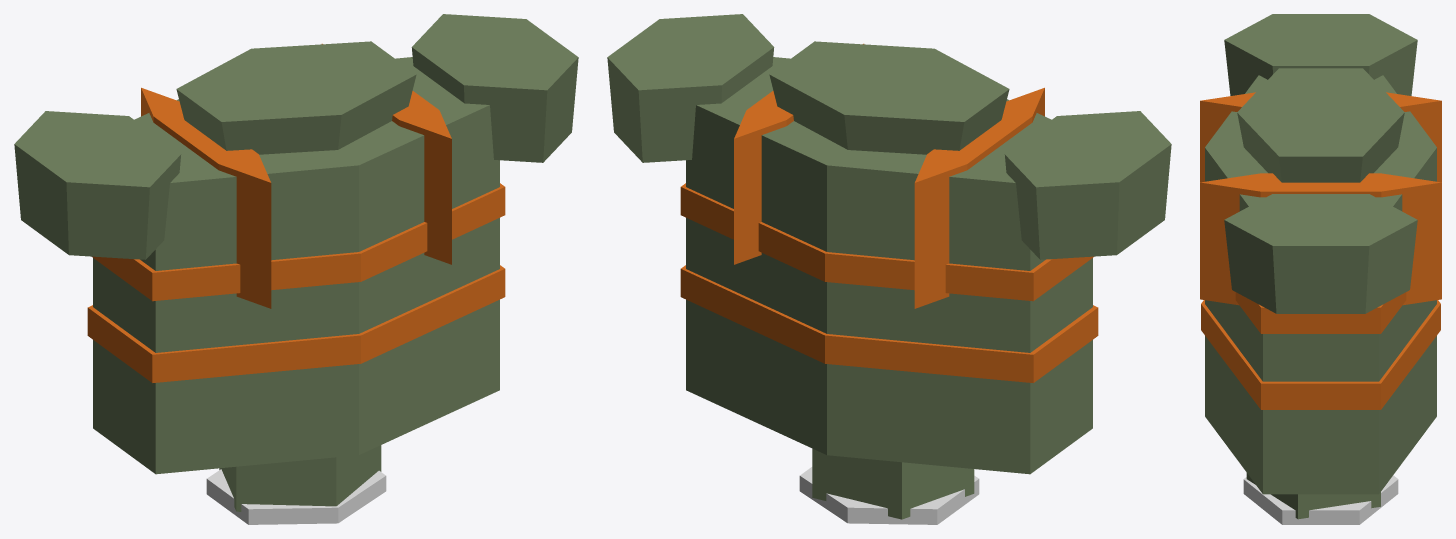
The model's file is torso.work_jacket.glb.
3 views of the same model, side by side, from view 1: azimuth 30°, elevation 25°; view 2: azimuth 150°, elevation 25°; view 3: azimuth 270°, elevation 25° (orthographic). The views are drawn at different scales.
Parts seen in each view (by area): view 1: spine@work_jacket.team.cloth, spine@work_jacket.team.accent, arm.L@work_jacket.team.cloth, arm.L@work_jacket.base; view 2: spine@work_jacket.team.cloth, spine@work_jacket.team.accent, arm.L@work_jacket.team.cloth, arm.L@work_jacket.base; view 3: spine@work_jacket.team.cloth, spine@work_jacket.team.accent, arm.L@work_jacket.base, arm.L@work_jacket.team.cloth.
Boxes of the visible parts, x1,y1,x2,y2 form: spine@work_jacket.team.cloth: [14, 14, 578, 474]; spine@work_jacket.team.accent: [87, 43, 505, 382]; arm.L@work_jacket.team.cloth: [219, 445, 381, 511]; arm.L@work_jacket.base: [206, 469, 386, 524]; spine@work_jacket.team.cloth: [607, 14, 1171, 474]; spine@work_jacket.team.accent: [680, 43, 1098, 382]; arm.L@work_jacket.team.cloth: [812, 448, 974, 519]; arm.L@work_jacket.base: [799, 467, 979, 524]; spine@work_jacket.team.cloth: [1205, 14, 1436, 494]; spine@work_jacket.team.accent: [1200, 92, 1441, 409]; arm.L@work_jacket.base: [1243, 475, 1398, 524]; arm.L@work_jacket.team.cloth: [1246, 473, 1380, 519].
Size of the model in its own units: 0.8505 by 0.6525 by 0.375.
